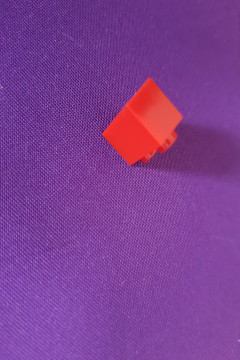1x2 red: (101, 76, 182, 166)
